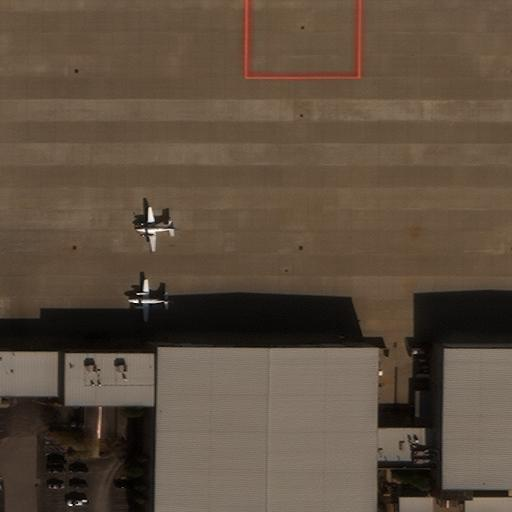Medium Civil Transport: (135, 207, 173, 251)
Small Civil Transport: (128, 280, 169, 320)
